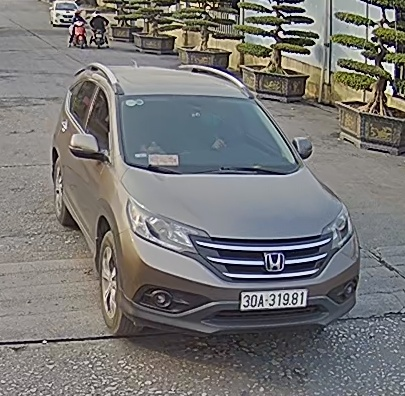vehicle plate: (237, 287, 309, 313)
